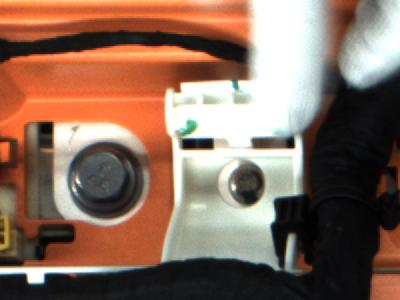nut_b: (52, 139, 159, 221)
